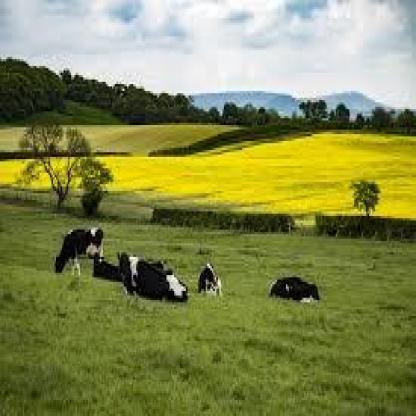cow: (116, 249, 188, 301), (52, 225, 104, 277), (268, 275, 320, 305), (197, 260, 222, 297)
